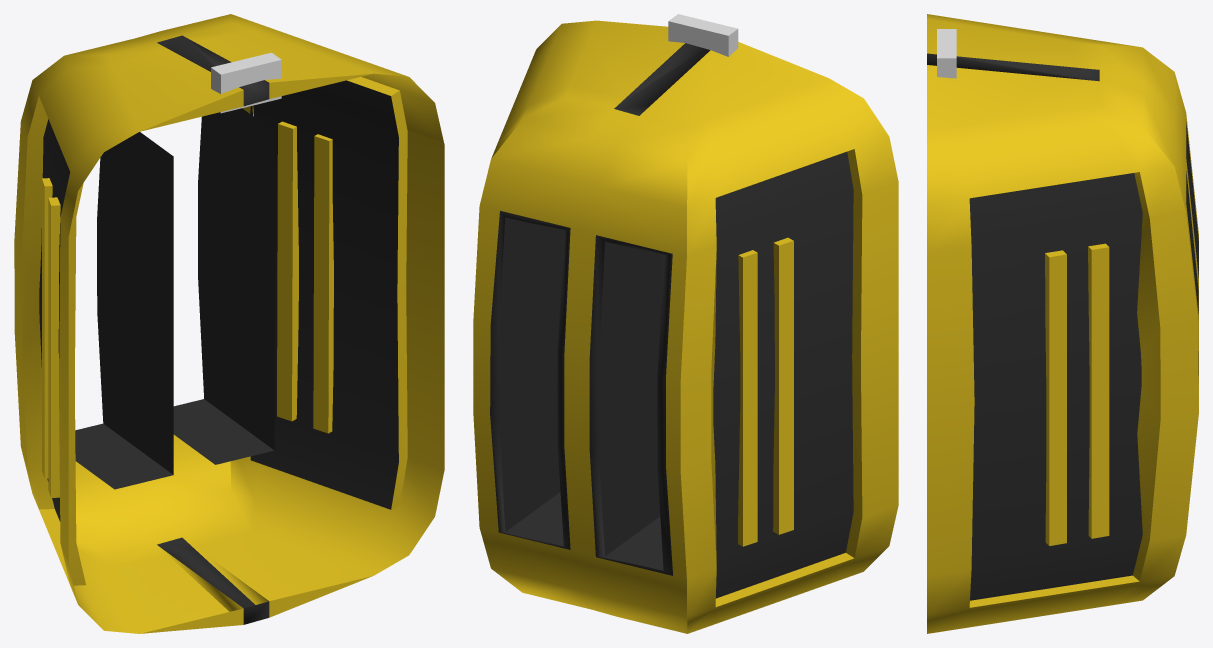
The model's file is toster_6.fbx.
3 views of the same model, side by side, from view 1: azimuth 30°, elevation 25°; view 2: azimuth 150°, elevation 25°; view 3: azimuth 270°, elevation 25° (orthographic).
Visible parts, largest first — view 1: toster_6, Cube.014; view 2: toster_6, Cube.014; view 3: toster_6, Cube.014.
Boxes of the visible parts, x1,y1,x2,y2 form: toster_6: (14, 14, 444, 633); Cube.014: (211, 52, 281, 113); toster_6: (473, 20, 898, 633); Cube.014: (668, 14, 738, 56); toster_6: (927, 14, 1198, 633); Cube.014: (937, 29, 956, 78).
Size of the model in its own units: 297 by 416 by 188.
